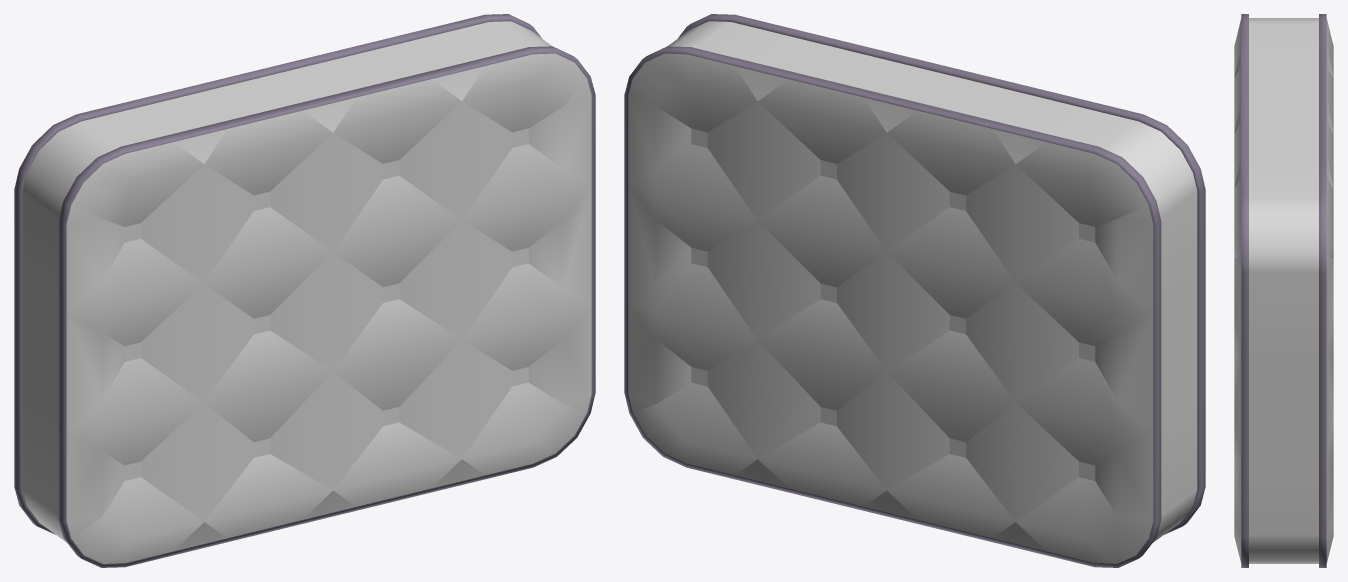
Rendered from Mattress.fbx.
3 views of the same model, side by side, from view 1: azimuth 30°, elevation 25°; view 2: azimuth 150°, elevation 25°; view 3: azimuth 270°, elevation 25° (orthographic). The views are drawn at different scales.
Visible parts, largest first — view 1: Final_Mattress; view 2: Final_Mattress; view 3: Final_Mattress.
Part boxes in pixels (bbox=[...]): Final_Mattress: bbox=[14, 14, 595, 567]; Final_Mattress: bbox=[624, 14, 1205, 567]; Final_Mattress: bbox=[1234, 14, 1333, 567].
Size of the model in its own units: 2.04 by 1.53 by 0.3751.
